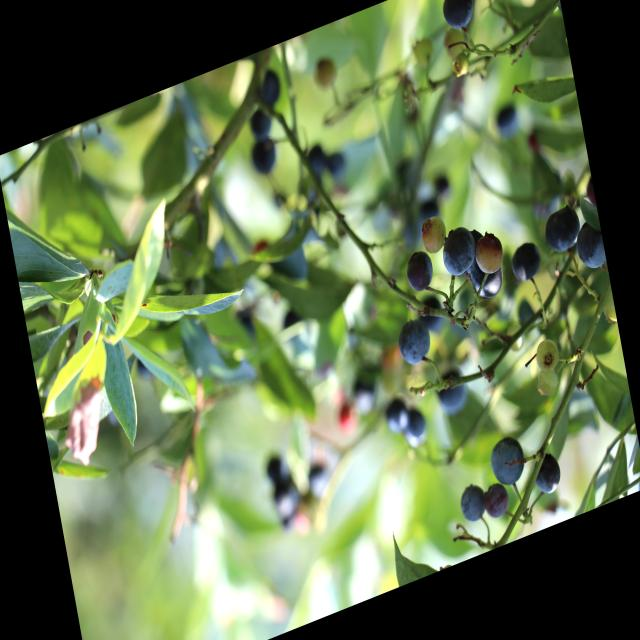blueberry: (438, 220, 482, 282), (541, 204, 585, 259), (488, 432, 527, 491), (394, 314, 434, 371), (571, 214, 607, 276), (507, 234, 546, 288), (434, 362, 470, 419), (468, 249, 504, 305), (530, 448, 564, 501), (403, 245, 437, 298), (435, 0, 476, 38), (482, 479, 513, 523), (457, 481, 488, 525), (247, 136, 278, 180), (272, 476, 300, 520), (256, 70, 284, 110), (383, 400, 410, 438), (404, 408, 428, 445), (308, 461, 332, 498), (249, 109, 275, 143), (306, 146, 326, 176)
blueberry-halfripe: (473, 228, 505, 278), (418, 210, 450, 258)
blueberry-unripe: (533, 334, 562, 376), (534, 362, 562, 401), (409, 32, 436, 70), (596, 281, 617, 328), (448, 48, 474, 82)
